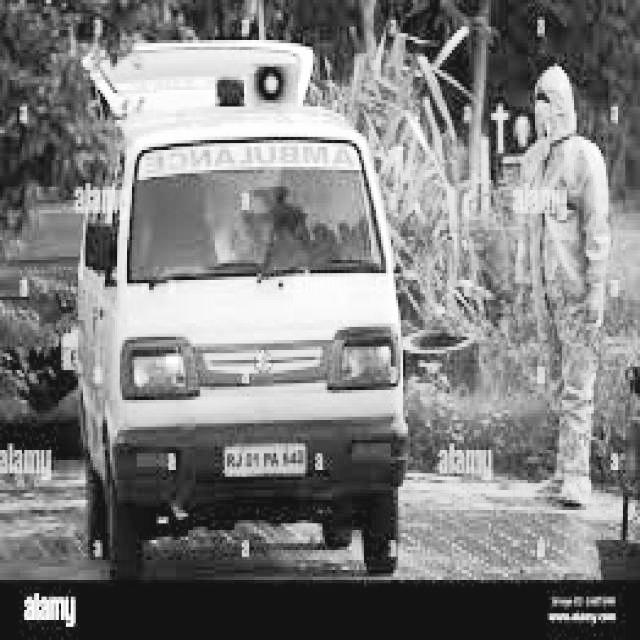LCV: (112, 131, 409, 499)
